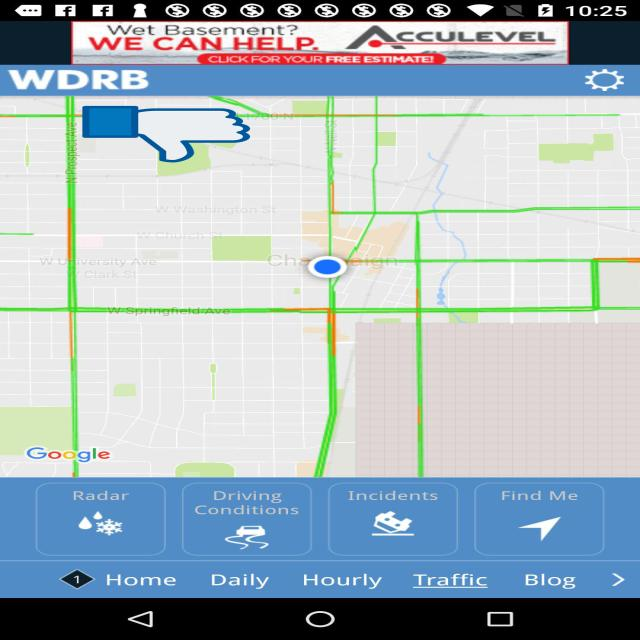obstruction: (82, 104, 250, 164)
